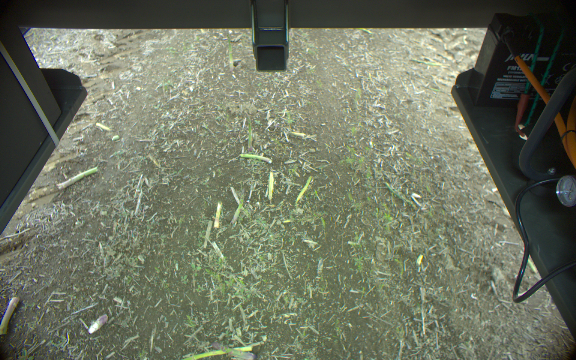aspa: (180, 344, 252, 360), (57, 165, 98, 191), (212, 341, 255, 360), (224, 27, 236, 72), (244, 112, 256, 155), (236, 152, 274, 165), (228, 198, 245, 226), (296, 175, 312, 204), (203, 218, 214, 252), (213, 202, 224, 230), (266, 171, 274, 200)
